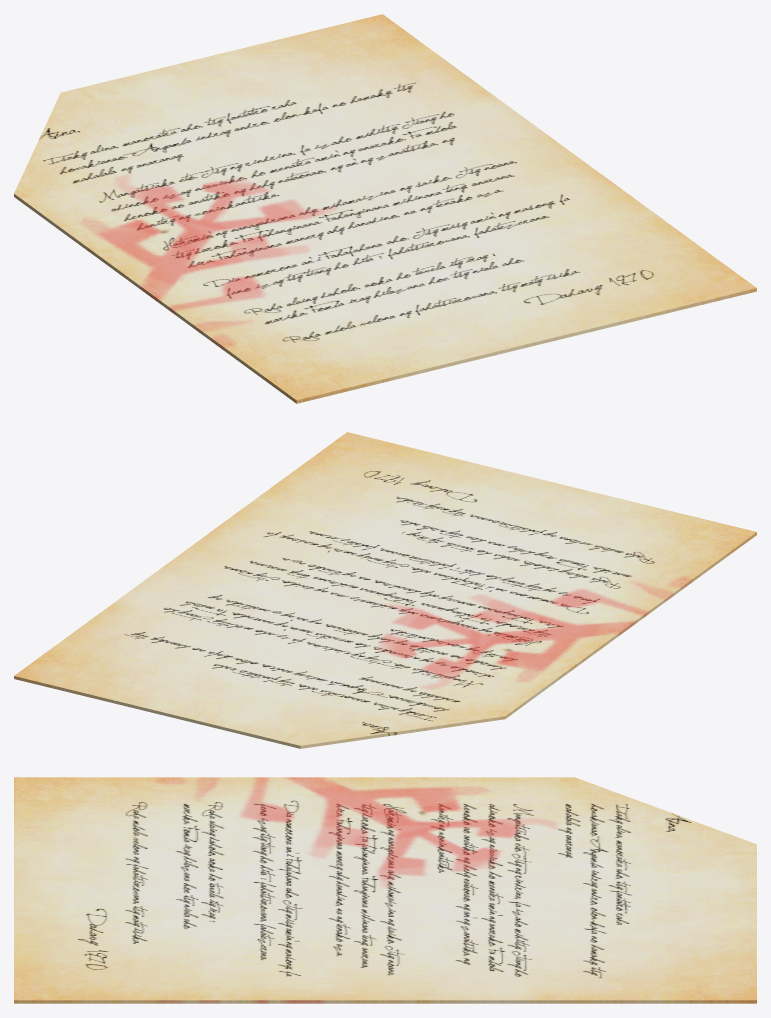
File: asset-lettre-atraduire.glb
The picture shows the model from 3 angles, top to bottom: view 1: azimuth 30°, elevation 25°; view 2: azimuth 150°, elevation 25°; view 3: azimuth 270°, elevation 25°; orthographic projection. The views are drawn at different scales.
Parts seen in each view (by area): view 1: lettrelangue; view 2: lettrelangue; view 3: lettrelangue.
Part boxes in pixels (bbox=[...]): lettrelangue: bbox=[14, 14, 756, 403]; lettrelangue: bbox=[14, 432, 756, 748]; lettrelangue: bbox=[14, 777, 756, 1003].
Bounding box in the file's own units: 1.42 × 0.01 × 2.
Materials: 1 (1 with a texture image).
